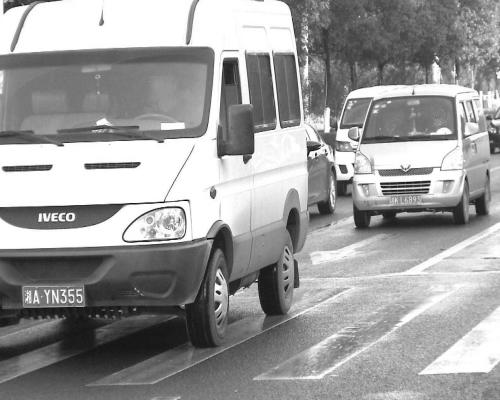Carplate: (18, 282, 86, 314), (384, 191, 425, 210)
